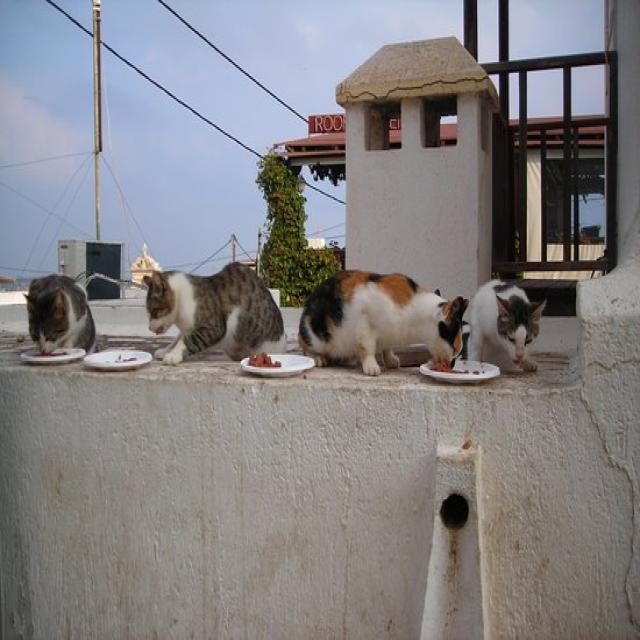cat: (299, 270, 467, 375), (145, 263, 285, 365), (469, 280, 545, 370), (26, 275, 95, 354)
